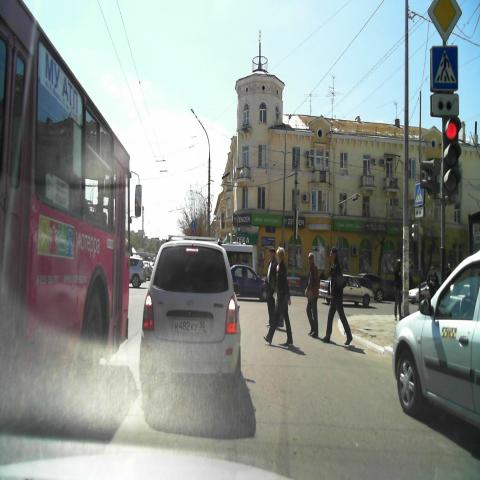8_15: (431, 94, 459, 117)
